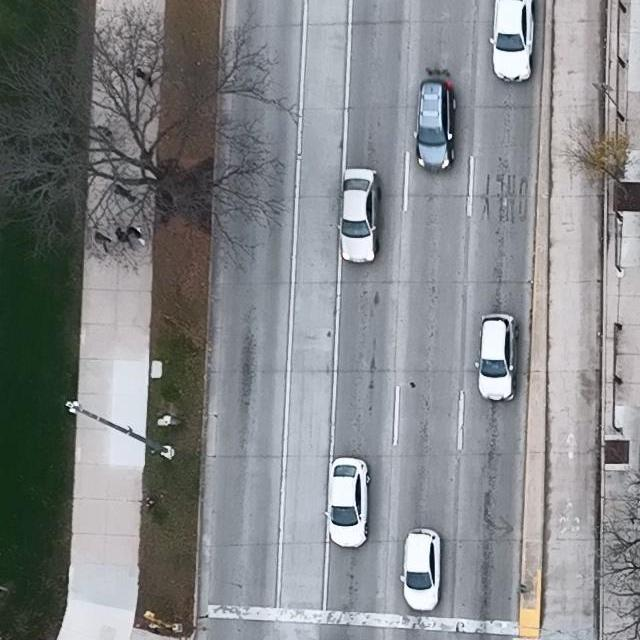car: (322, 456, 370, 548), (337, 169, 381, 265), (414, 79, 457, 171), (489, 0, 535, 82), (475, 314, 518, 401), (400, 528, 441, 611)
